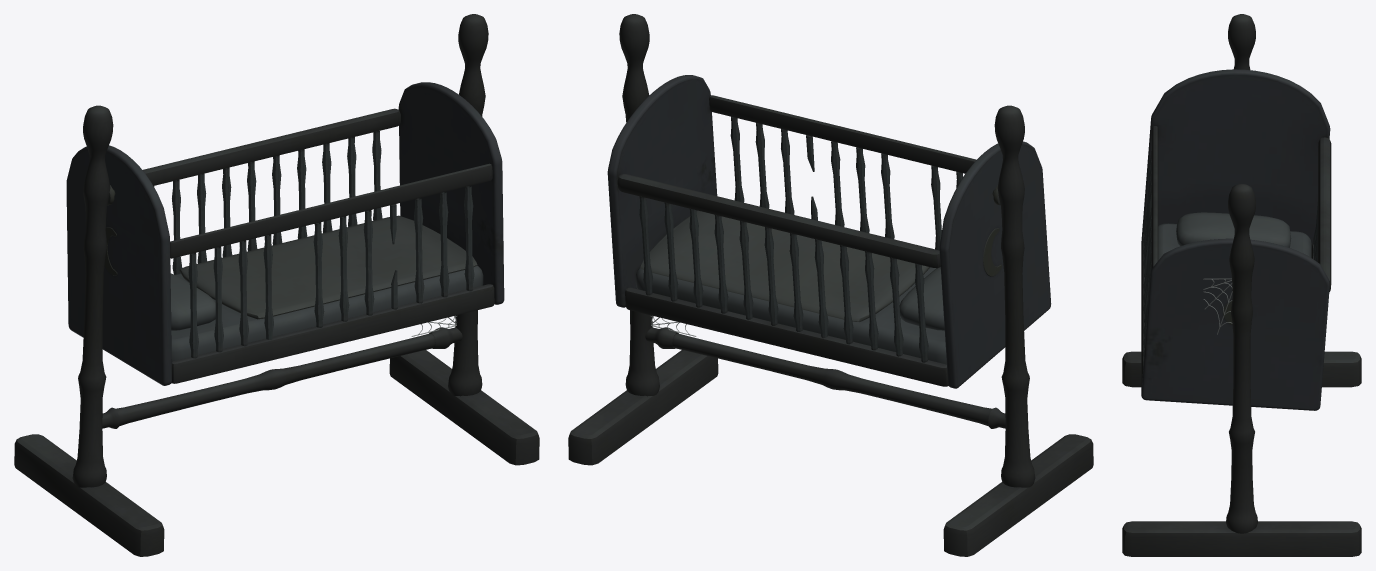
Rendered from old-cradle.glb.
3 views of the same model, side by side, from view 1: azimuth 30°, elevation 25°; view 2: azimuth 150°, elevation 25°; view 3: azimuth 270°, elevation 25° (orthographic). The views are drawn at different scales.
Parts seen in each view (by area): view 1: old-cradle_cradle, old-cradle_body; view 2: old-cradle_cradle, old-cradle_body; view 3: old-cradle_cradle, old-cradle_body, old-cradle_web.
Boxes of the visible parts, x1,y1,x2,y2 form: old-cradle_cradle: (66, 82, 504, 385); old-cradle_body: (14, 14, 539, 556); old-cradle_cradle: (607, 75, 1051, 388); old-cradle_body: (568, 14, 1093, 556); old-cradle_cradle: (1141, 69, 1331, 410); old-cradle_body: (1122, 14, 1361, 556); old-cradle_web: (1203, 278, 1232, 334).
Size of the model in its own units: 1.03 by 0.955 by 0.56.
3 materials, 2 textured.
